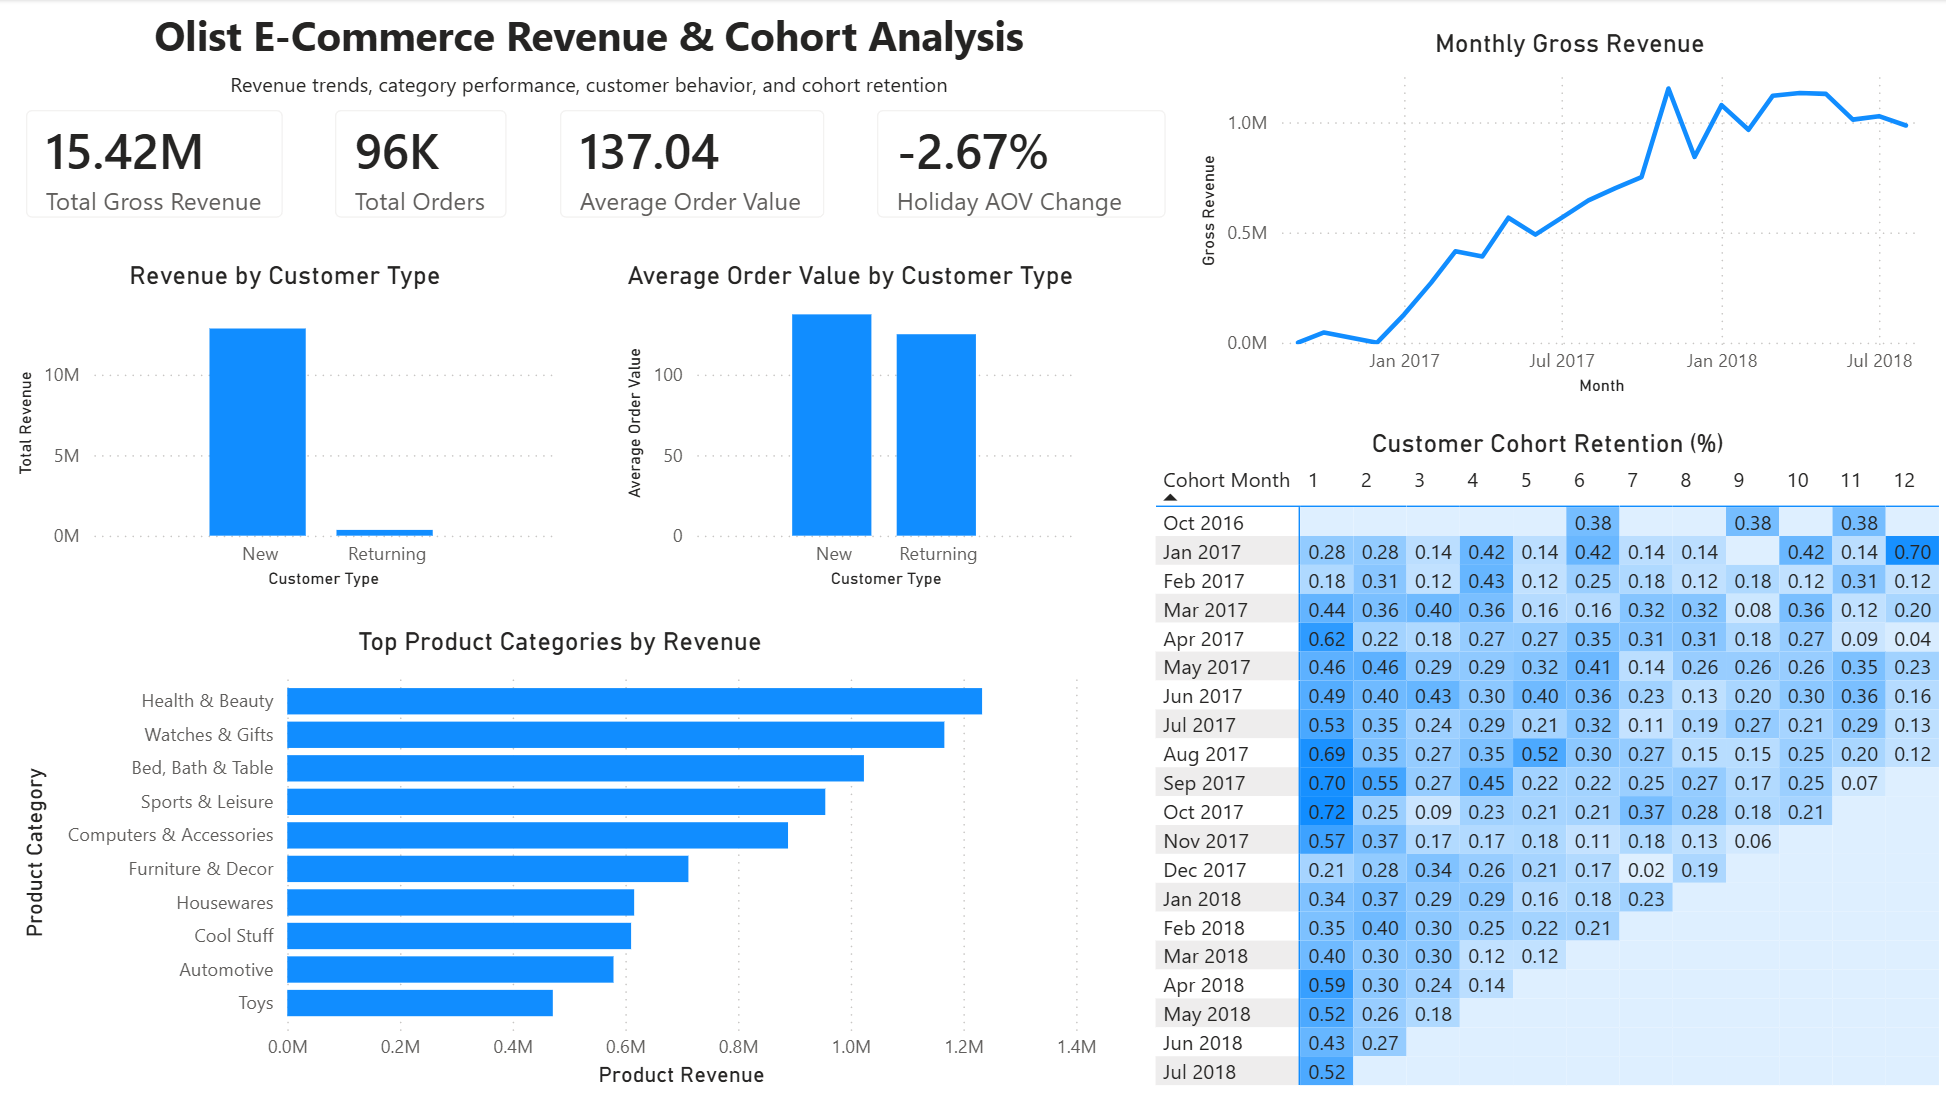

What the dashboard file says about the page in this screenshot:
{"tool":"powerbi","page":{"name":"Page 1","canvas":[1280,720],"ordinal":0},"visuals":[{"type":"lineChart","title":"Monthly Gross Revenue","fields":{"Y":["Sum(public vw_monthly_revenue.gross_revenue)"],"Category":["public vw_monthly_revenue.order_month"]},"box":[784.3,19.1,495.7,245.9],"z":0},{"type":"clusteredBarChart","title":"Top Product Categories by Revenue","fields":{"Y":["Sum(public vw_category_performance.product_revenue)"],"Category":["public vw_category_performance.Product Category"]},"box":[9.9,412.2,716.6,307.7],"z":1000},{"type":"clusteredColumnChart","title":"Revenue by Customer Type","fields":{"Category":["public vw_new_vs_returning.customer_type"],"Y":["Sum(public vw_new_vs_returning.total_revenue)"]},"box":[6.6,171.6,361.6,220.2],"z":2000},{"type":"clusteredColumnChart","title":"Average Order Value by Customer Type","fields":{"Category":["public vw_new_vs_returning.customer_type"],"Y":["Avg(public vw_new_vs_returning.avg_order_value)"]},"box":[406.9,171.6,304.4,220.2],"z":3000},{"type":"cardVisual","fields":{"Data":["public vw_holiday_uplift.Holiday AOV Change"]},"box":[559.5,55.9,224.8,105.2],"z":4000},{"type":"pivotTable","title":"Customer Cohort Retention (%)","fields":{"Columns":["public vw_cohort_retention.month_number"],"Values":["Avg(public vw_cohort_retention.retention_rate)"],"Rows":["public vw_cohort_retention.Cohort Month"]},"box":[754.7,282,525.3,437.8],"z":5000},{"type":"cardVisual","fields":{"Data":["Sum(public vw_kpi_summary.total_gross_revenue)"]},"box":[0,55.9,203.1,105.2],"z":6000},{"type":"cardVisual","fields":{"Data":["Sum(public vw_kpi_summary.total_orders)"]},"box":[203.1,55.9,147.9,105.2],"z":7000},{"type":"cardVisual","fields":{"Data":["Avg(public vw_kpi_summary.avg_order_value)"]},"box":[351.1,55.9,208.4,105.2],"z":8000},{"type":"textbox","box":[0,0,774.4,49.3],"z":9000},{"type":"textbox","box":[0,42.1,774.4,27],"z":10000}]}

Visuals, with their boxes in screenshot pixels (x1, y1, x2, y2), scaled from the page's 1280x720 canvas onto the 1946x1093 screenshot:
"Monthly Gross Revenue" lineChart: x1=1192, y1=29, x2=1945, y2=402
"Top Product Categories by Revenue" clusteredBarChart: x1=15, y1=626, x2=1105, y2=1092
"Revenue by Customer Type" clusteredColumnChart: x1=10, y1=260, x2=560, y2=595
"Average Order Value by Customer Type" clusteredColumnChart: x1=619, y1=260, x2=1081, y2=595
cardVisual - public vw_holiday_uplift.Holiday AOV Change: x1=851, y1=85, x2=1192, y2=245
"Customer Cohort Retention (%)" pivotTable: x1=1147, y1=428, x2=1945, y2=1092
cardVisual - Sum(public vw_kpi_summary.total_gross_revenue): x1=0, y1=85, x2=309, y2=245
cardVisual - Sum(public vw_kpi_summary.total_orders): x1=309, y1=85, x2=534, y2=245
cardVisual - Avg(public vw_kpi_summary.avg_order_value): x1=534, y1=85, x2=851, y2=245
textbox: x1=0, y1=0, x2=1177, y2=75
textbox: x1=0, y1=64, x2=1177, y2=105
